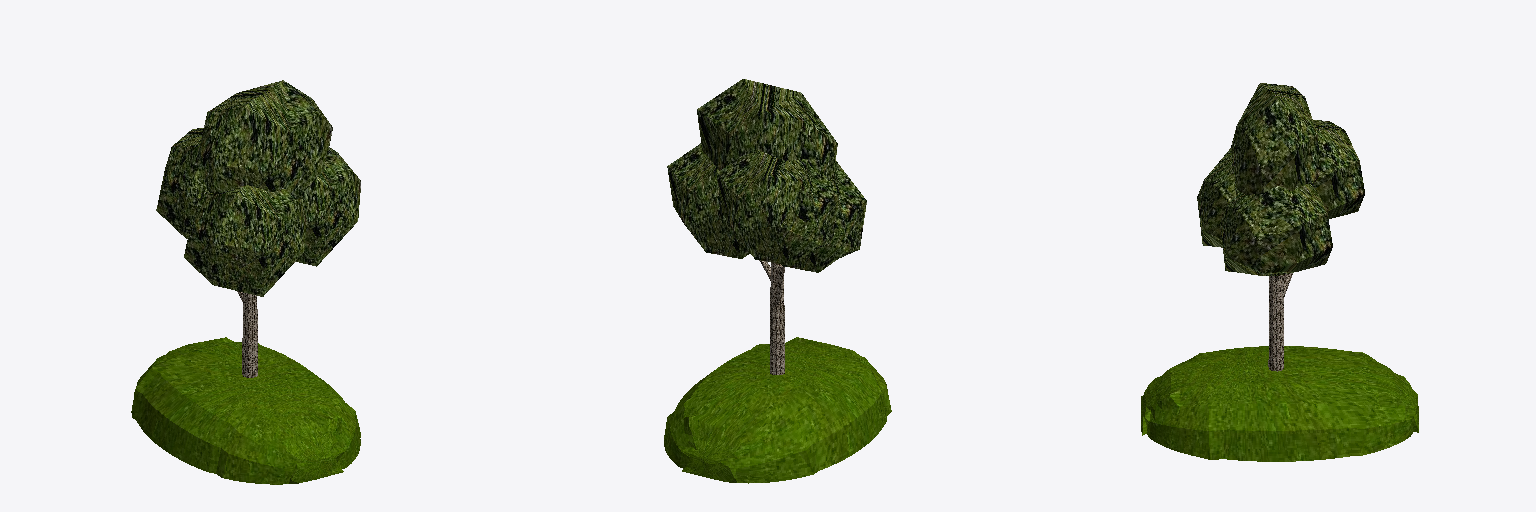
3 views of the same model, side by side, from view 1: azimuth 30°, elevation 25°; view 2: azimuth 150°, elevation 25°; view 3: azimuth 270°, elevation 25° (orthographic).
Visible parts, largest first — view 1: Cylinder, Cube; view 2: Cylinder, Cube; view 3: Cube, Cylinder.
Boxes of the visible parts, x1,y1,x2,y2 form: Cylinder: [156, 80, 360, 377]; Cube: [131, 337, 360, 484]; Cylinder: [667, 79, 866, 374]; Cube: [664, 337, 891, 483]; Cube: [1141, 346, 1418, 461]; Cylinder: [1197, 83, 1364, 371].
Bounding box in the file's own units: 14.81 × 25.57 × 18.99.
3 materials, 3 textured.